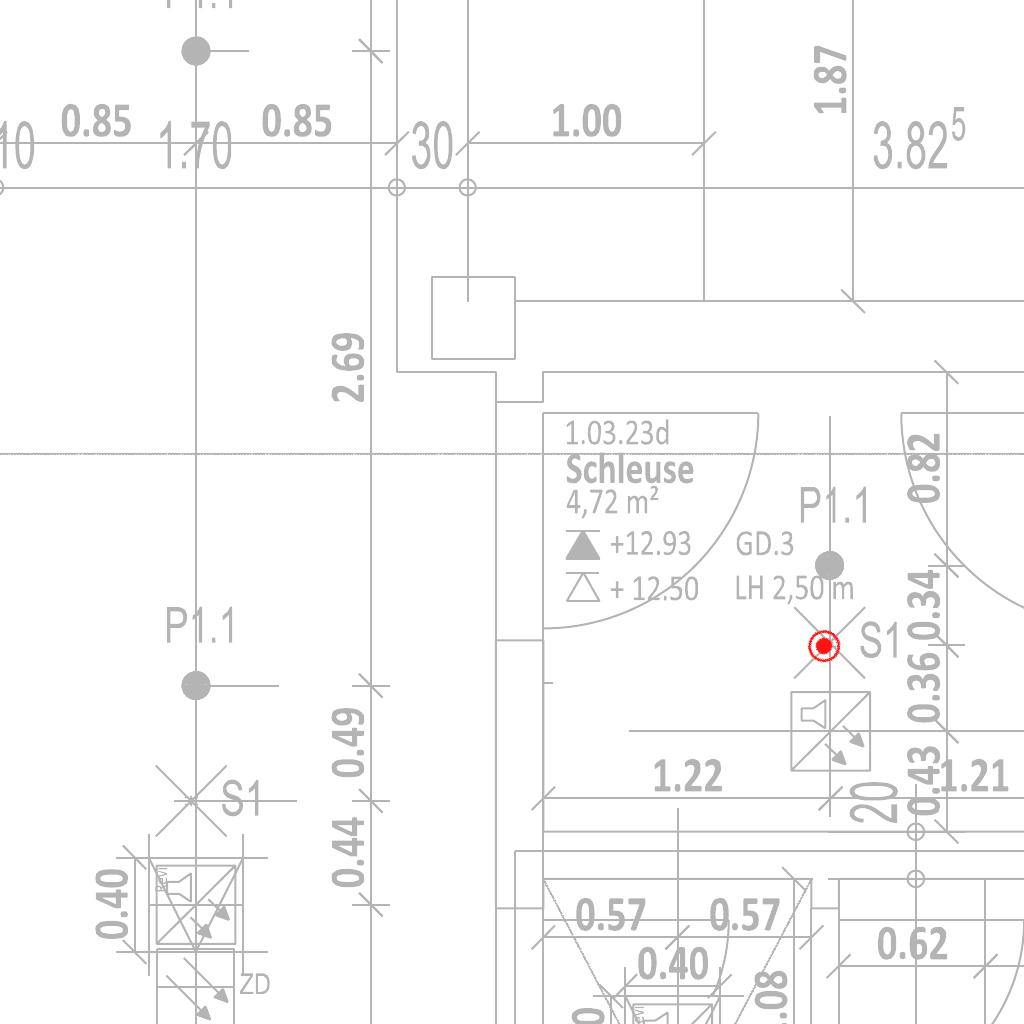Taster: (800, 623, 847, 670)
